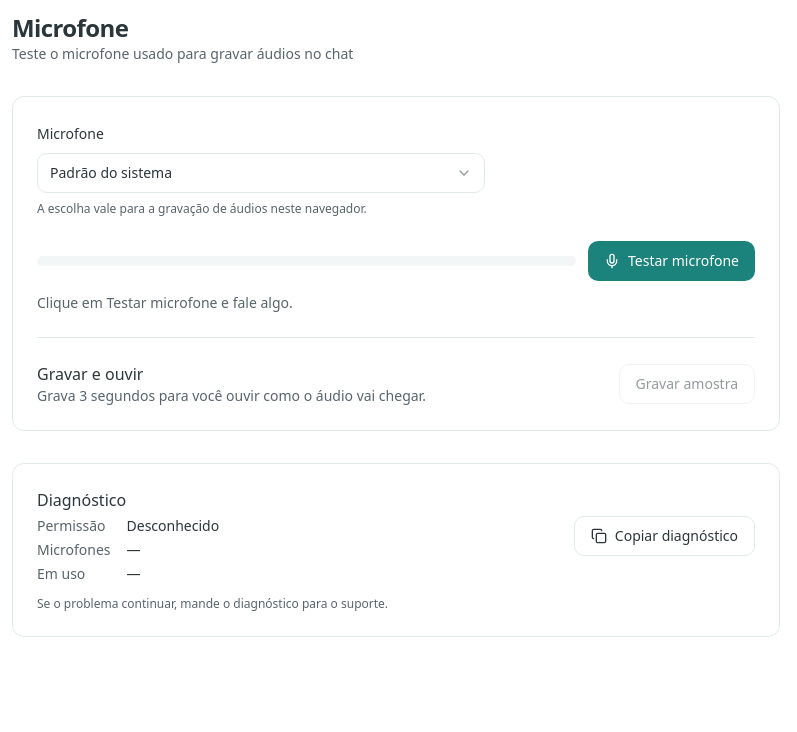
MicrophoneSettings › microfone ocupado por outro app mostra 'Microfone em uso', não 'bloqueado'
The image size is (797, 732).
Click the button "Testar microfone" at (672, 261), box [588,241,755,281]
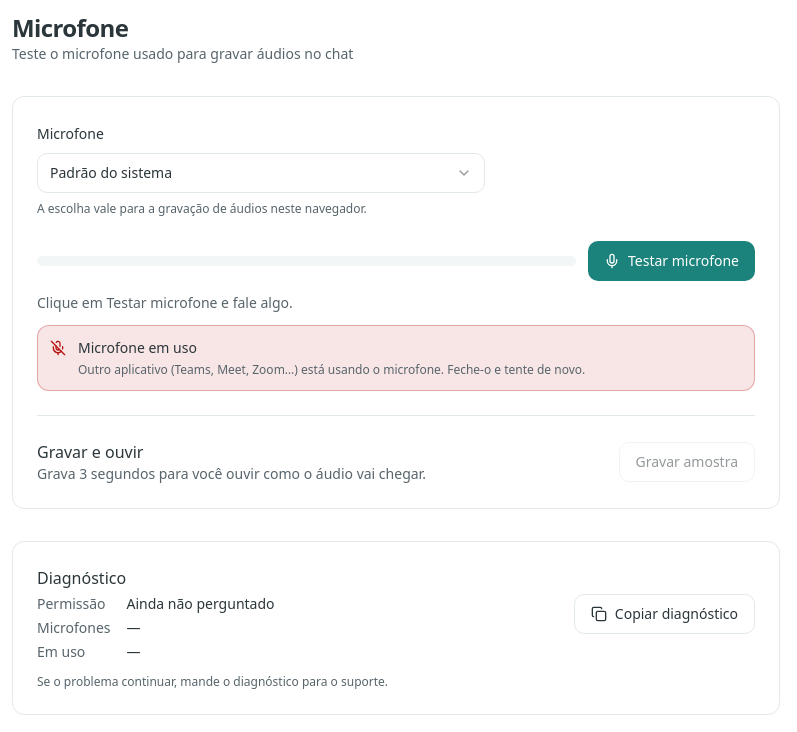
Expected: the message shows "Microfone em uso", [78,338,197,357]
